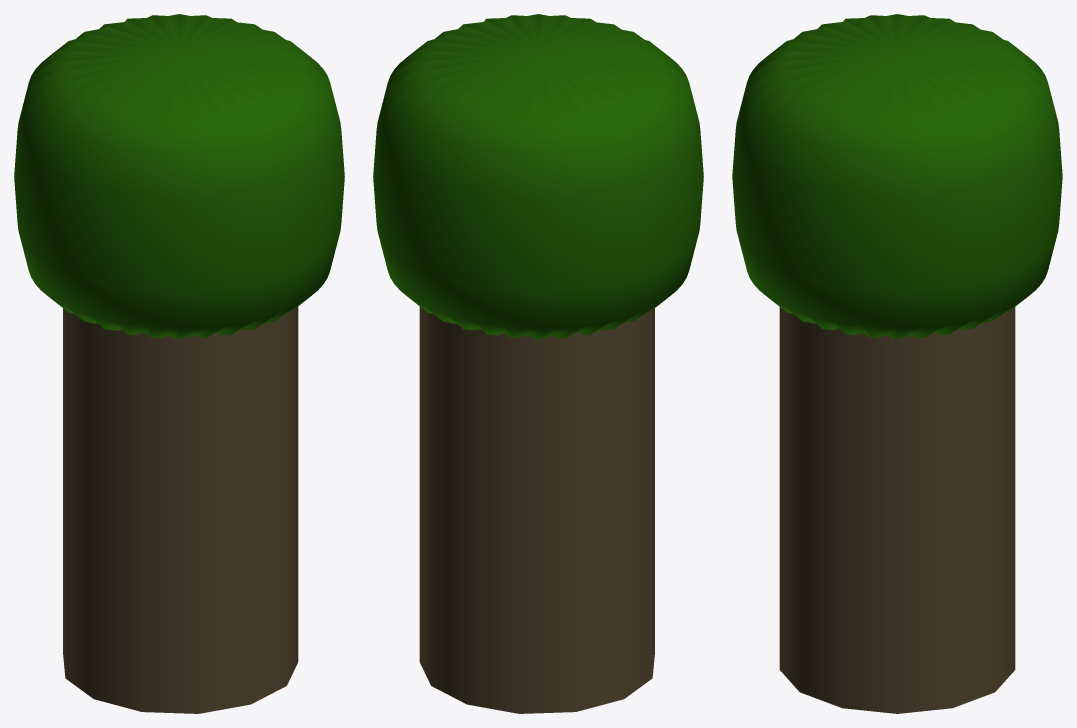
The model's file is column_grass.fbx.
The picture shows the model from 3 angles, left to right: view 1: azimuth 30°, elevation 25°; view 2: azimuth 150°, elevation 25°; view 3: azimuth 270°, elevation 25°; orthographic projection.
Visible parts, largest first — view 1: pCylinder4; view 2: pCylinder4; view 3: pCylinder4.
Part boxes in pixels (x1,y1,x2,y2): pCylinder4: (14, 14, 344, 713); pCylinder4: (373, 14, 703, 713); pCylinder4: (732, 14, 1062, 713).
Bounding box in the file's own units: 2.78 × 5.69 × 2.78.
